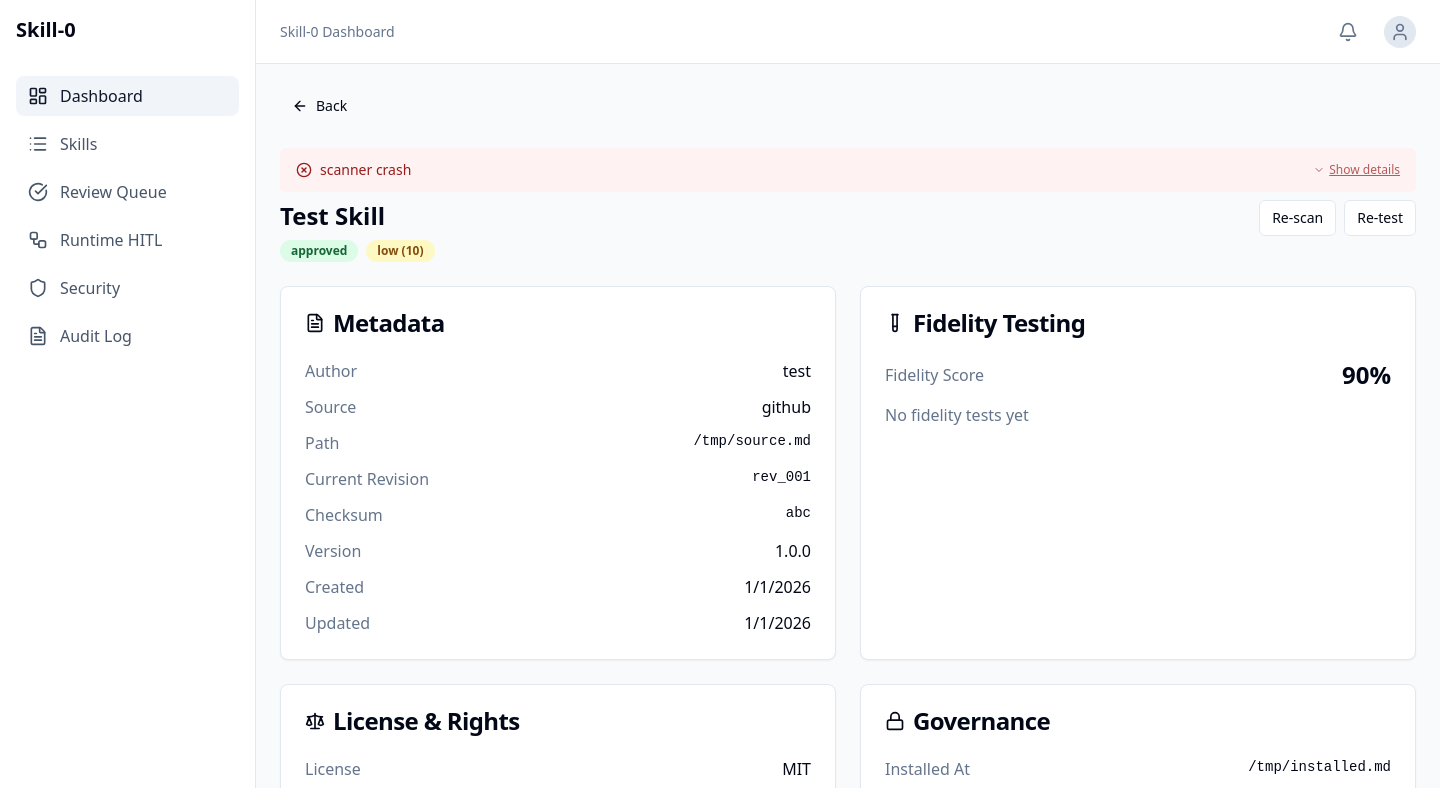
SkillDetail async action jobs › retries a retriable failed item from the detail page
Step 1. Click the button "Show details" → x=1357, y=170, box [1313,162,1400,178]
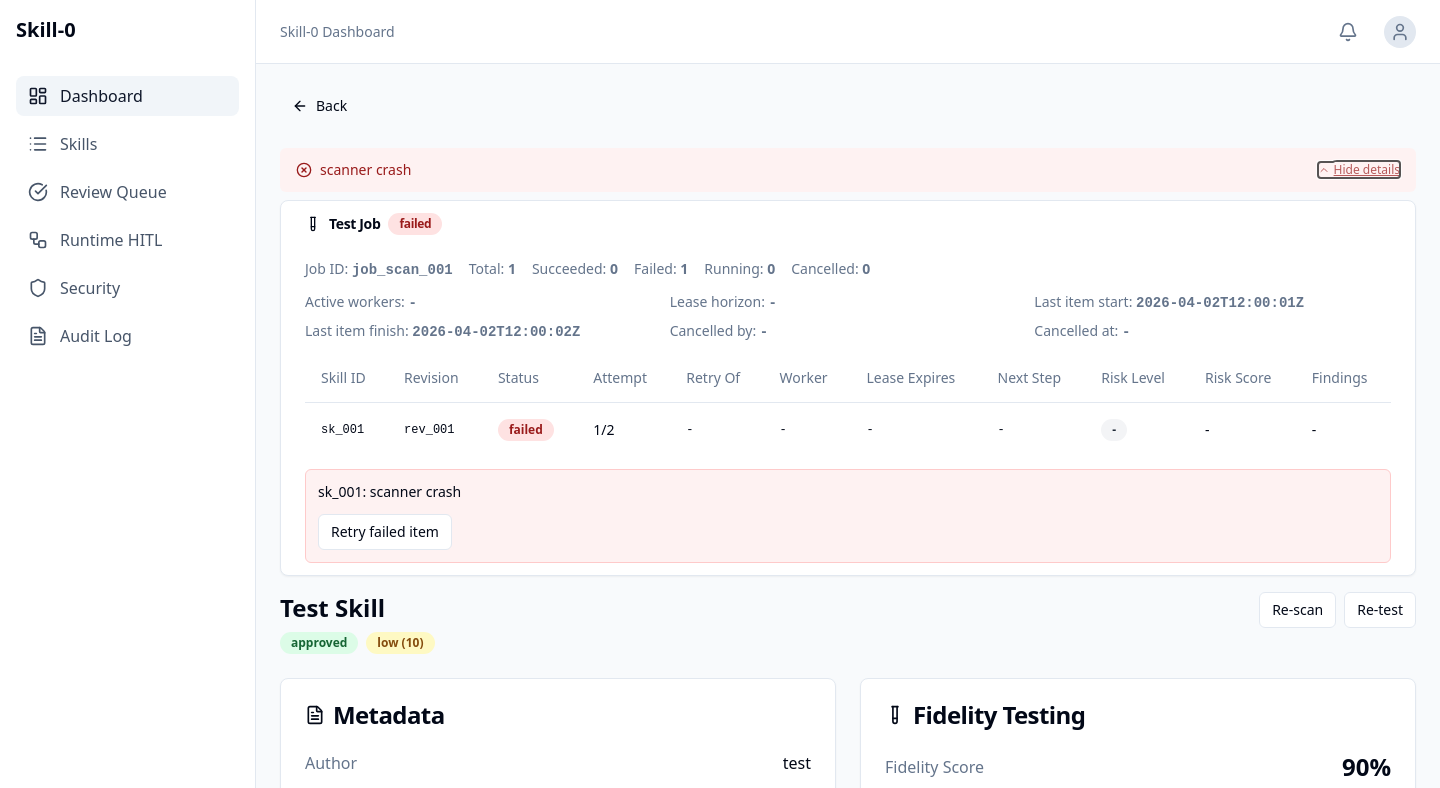
Step 2. Click the button "Retry failed item" → x=385, y=532, box [318,514,452,550]
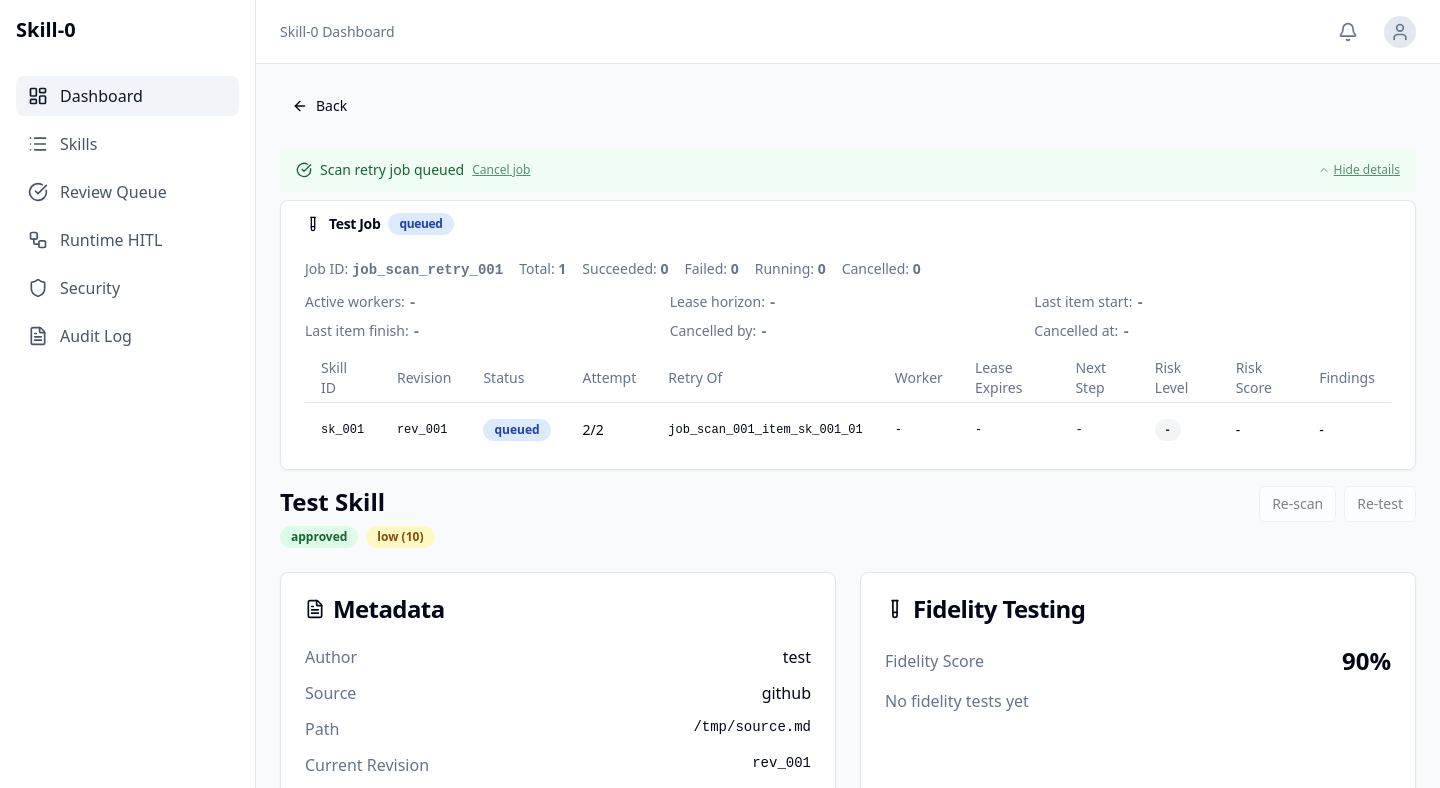
Expected: the text "Scan retry job queued" is shown, [320,160,464,179]
